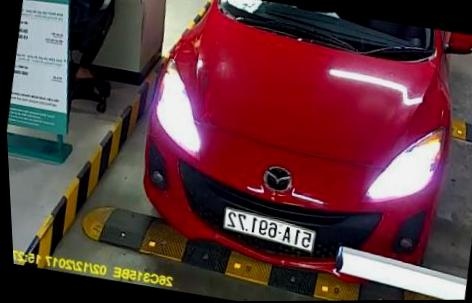License_Plate: (217, 207, 322, 260)
